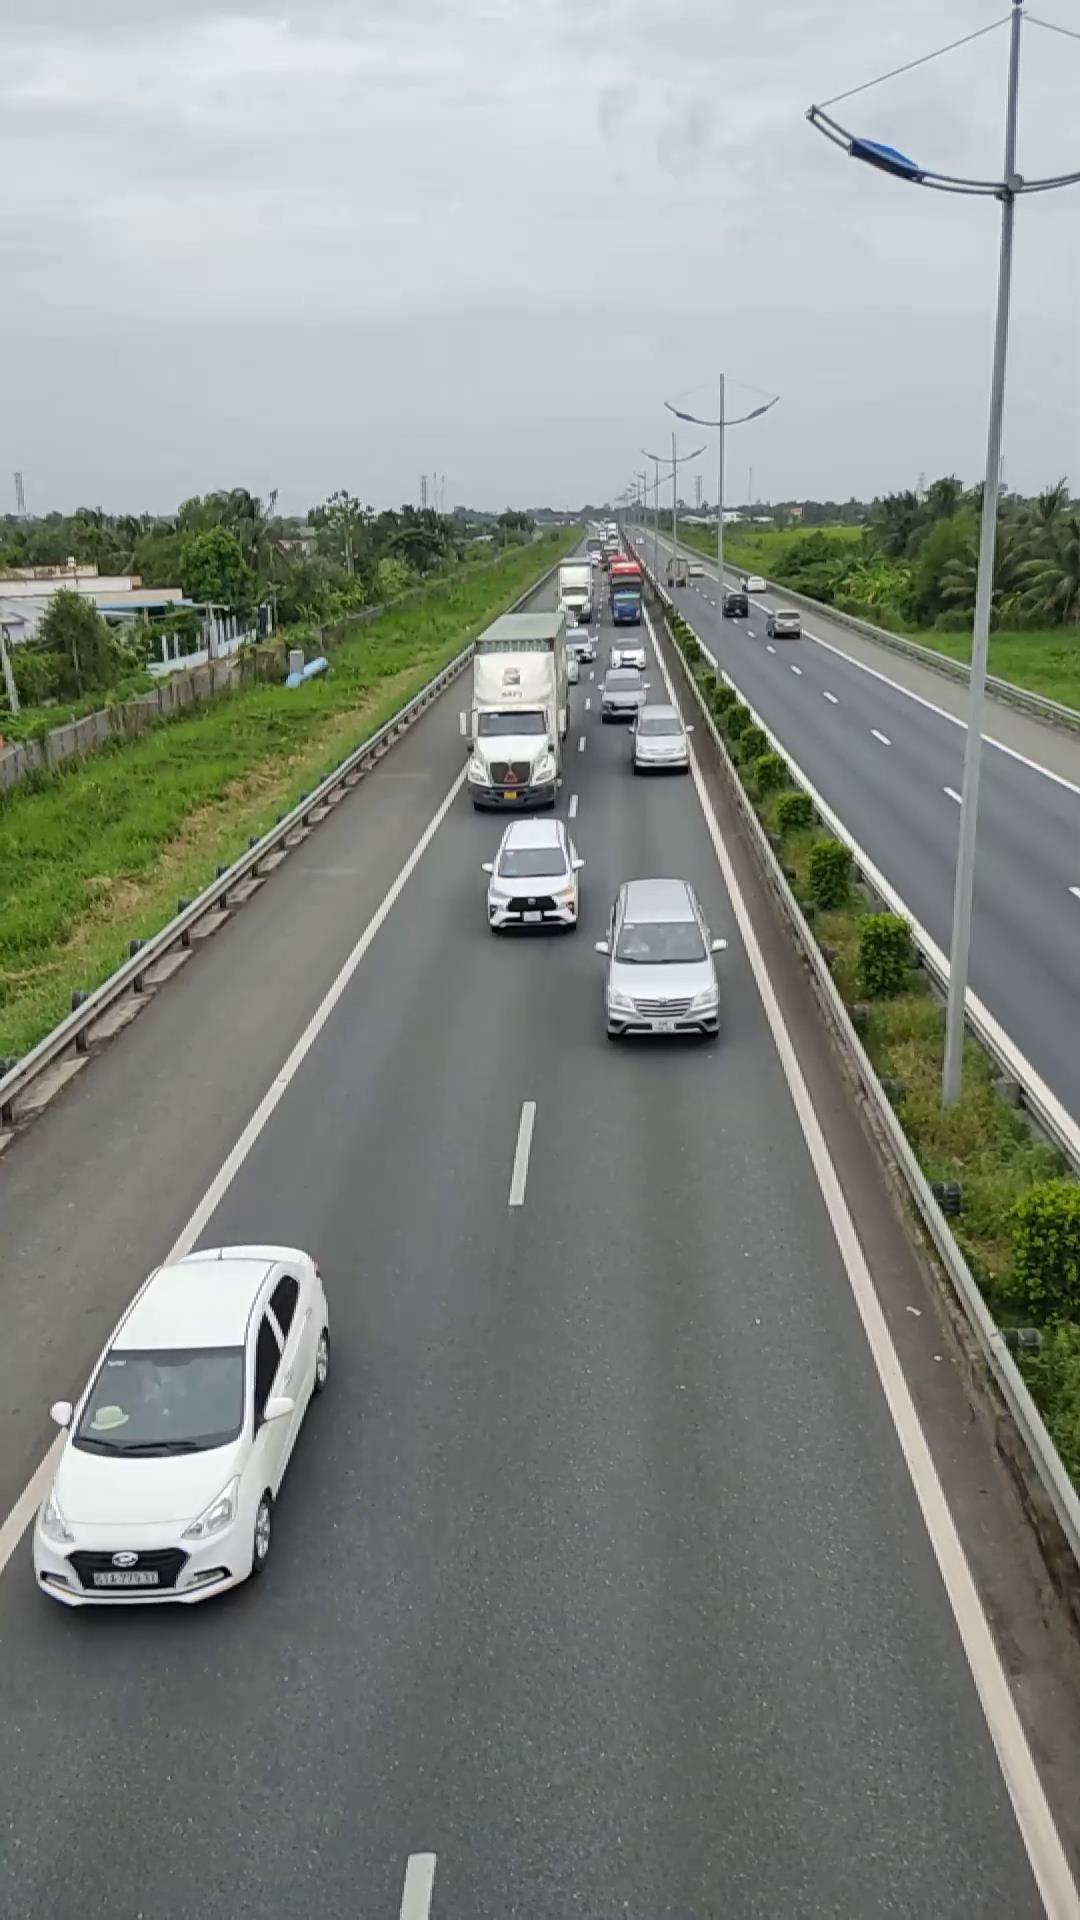car: (24, 1242, 332, 1613), (600, 876, 723, 1040), (483, 818, 585, 934), (629, 707, 691, 771)
container: (462, 607, 574, 811)
